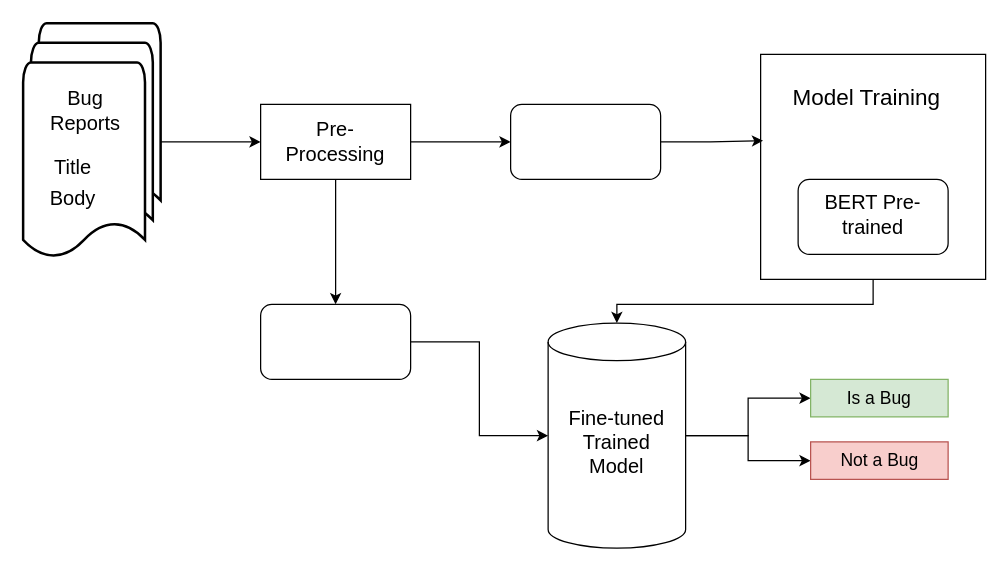
Some shapes in this 1008 by 570 pixel diagram are drawn without their labels. The centre of each missing label's shape, as x and y in pixels:
Testing Set: point (335, 341)
Training Set: point (585, 141)
